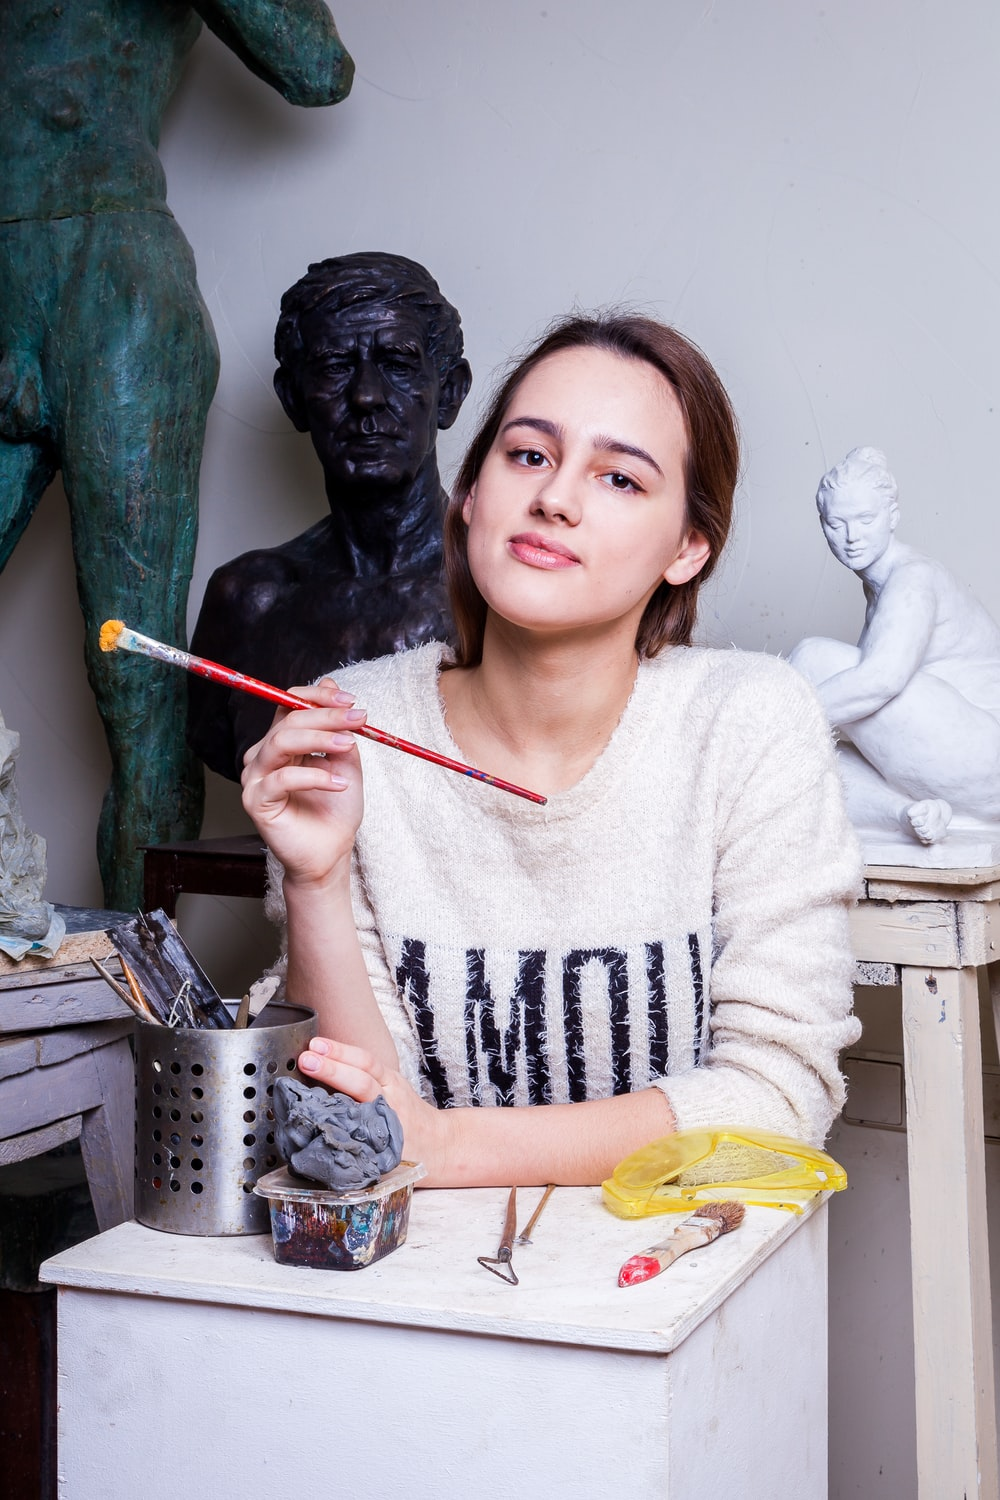Face: (451, 324, 707, 642)
